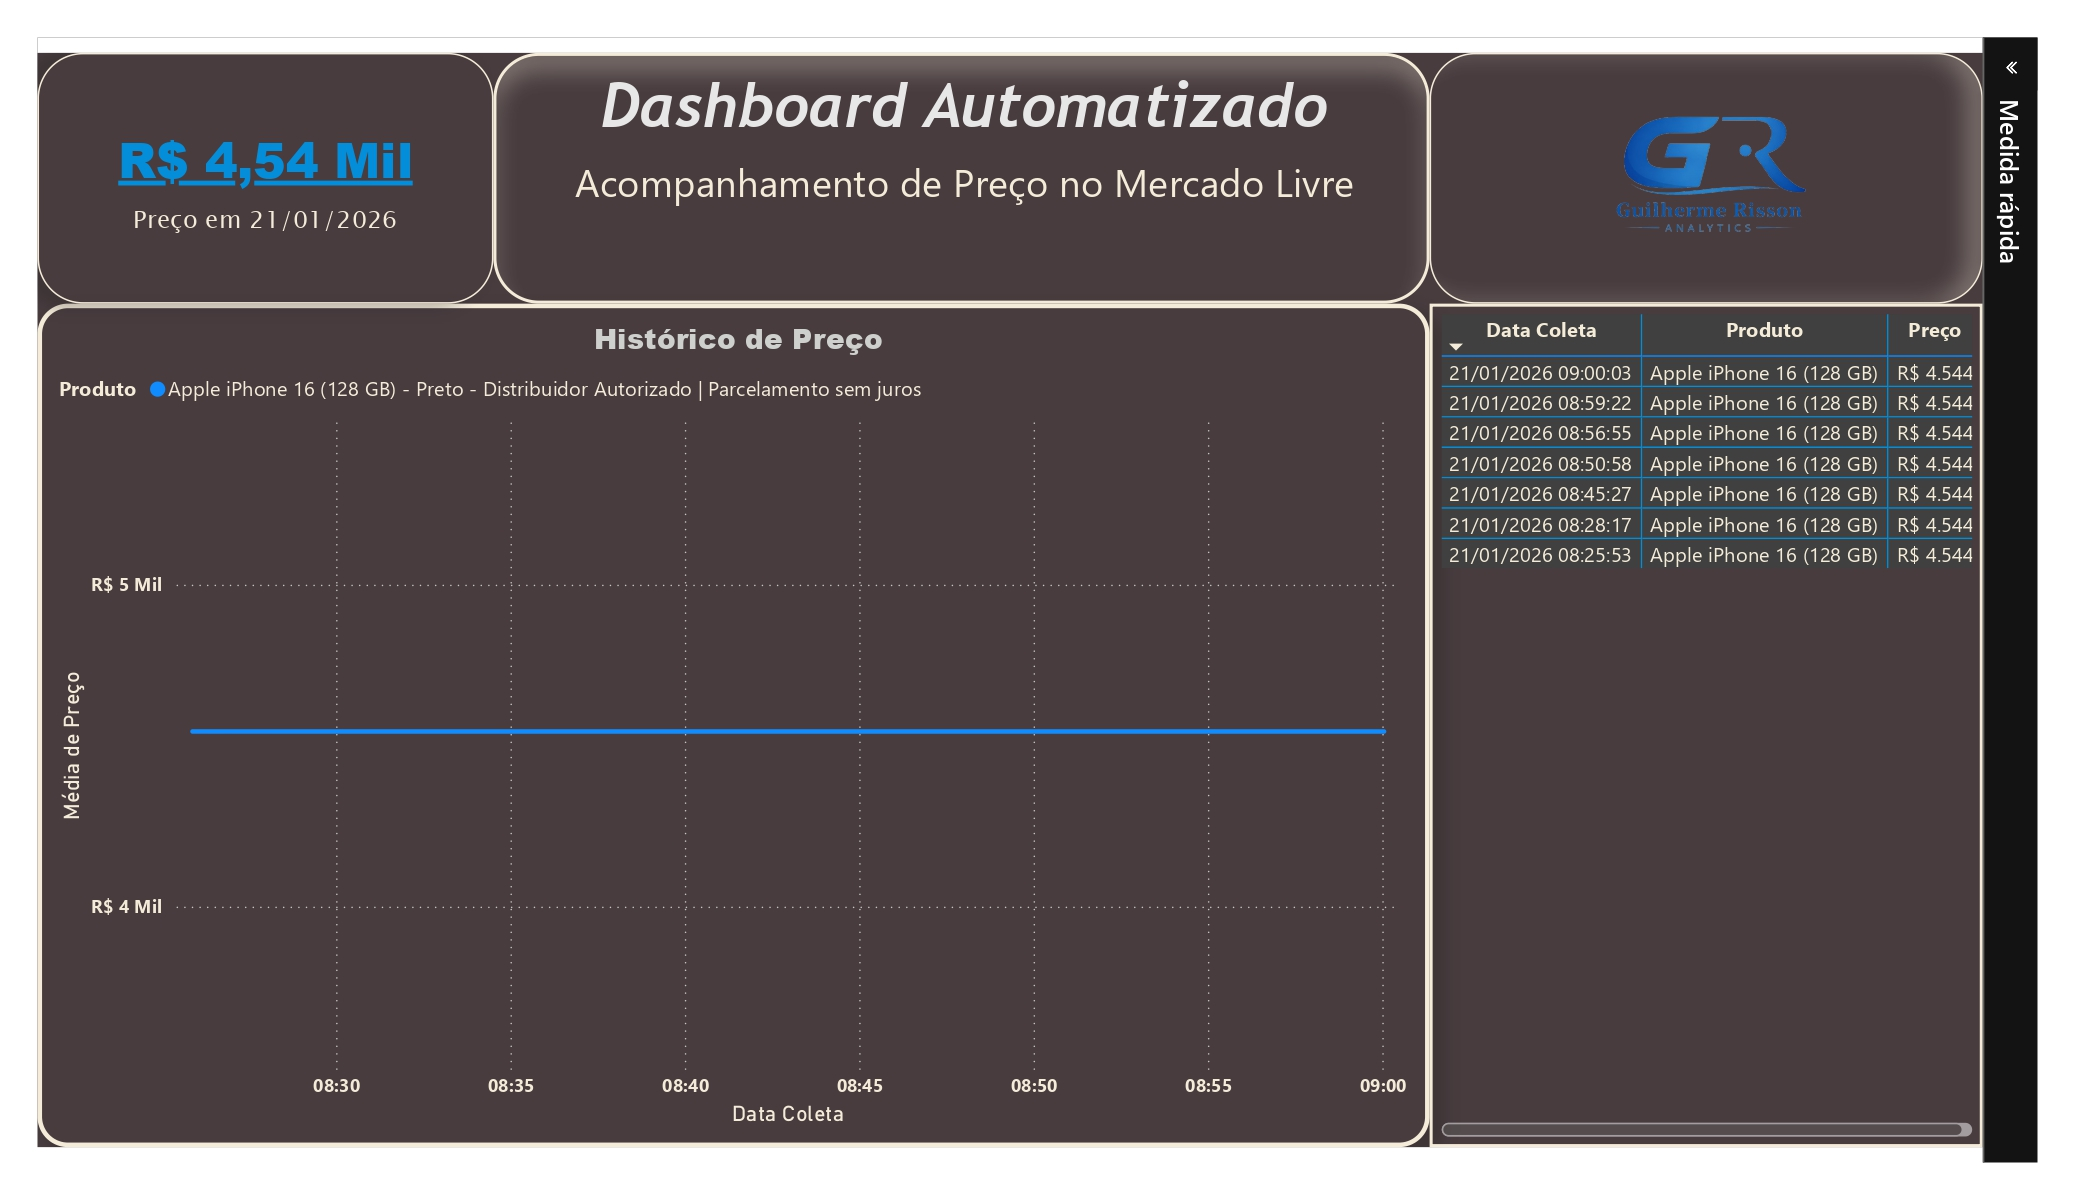

Layout of this report page (visuals, bound fields, positions):
{"tool":"powerbi","page":{"name":"Página 1","canvas":[1280,720],"ordinal":0},"visuals":[{"type":"lineChart","title":"Histórico de Preço","fields":{"Y":["Avg(Sheet1.Preço)"],"Series":["Sheet1.Produto"],"Category":["Sheet1.Data Coleta"]},"box":[0,165.1,915.7,555.2],"z":0},{"type":"card","fields":{"Values":["Min(Sheet1.Preço)"]},"box":[0,0,299.7,165.1],"z":1},{"type":"tableEx","fields":{"Values":["Sheet1.Data Coleta","Sheet1.Nome Curto","Sheet1.Preço"]},"box":[915.7,165.1,364.3,555.2],"z":2},{"type":"image","box":[915.7,0,364.3,165.1],"z":3},{"type":"textbox","title":"Dashboard Automatizado","box":[300,0,616,165],"z":4}]}

Visuals, with their boxes in screenshot pixels (x1, y1, x2, y2):
"Histórico de Preço" lineChart: x1=11, y1=303, x2=1423, y2=1159
card - Min(Sheet1.Preço): x1=11, y1=49, x2=473, y2=303
tableEx - Sheet1.Data Coleta x Sheet1.Nome Curto: x1=1423, y1=303, x2=1985, y2=1159
image: x1=1423, y1=49, x2=1985, y2=303
"Dashboard Automatizado" textbox: x1=473, y1=49, x2=1423, y2=303
